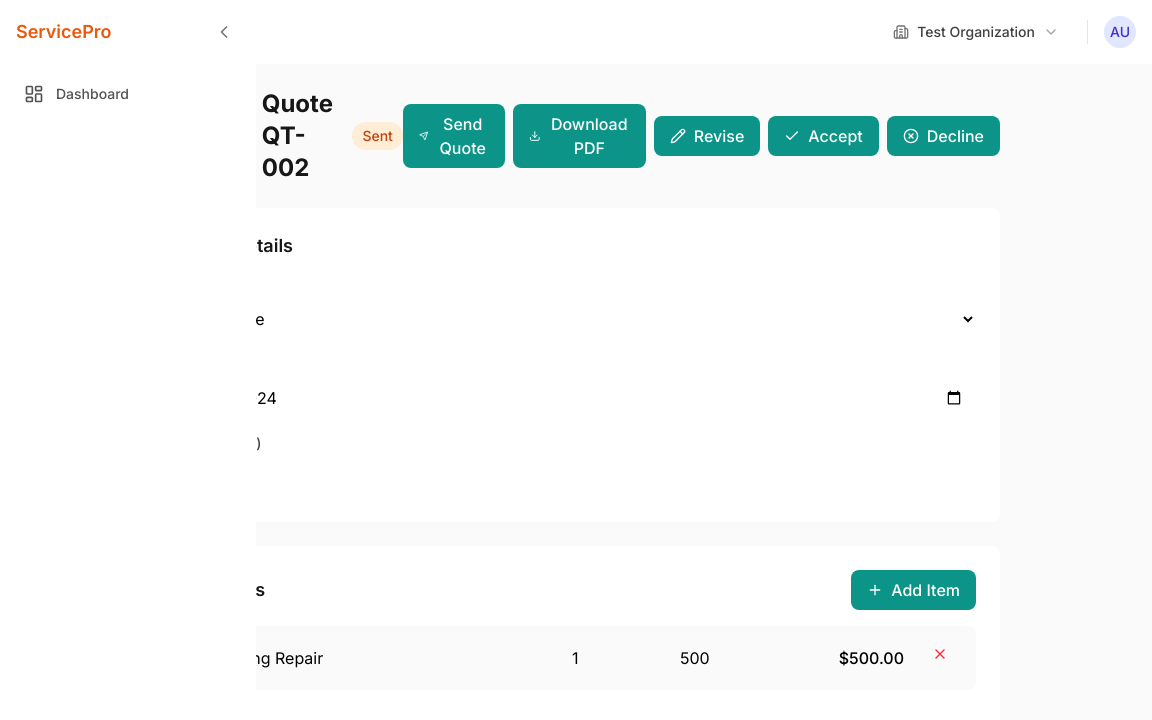
Test: Quote Workflow Integration › Quote Status Transitions › accepts a sent quote
Click the button "Accept" at (824,136), box x1=768 y1=116 x2=879 y2=156
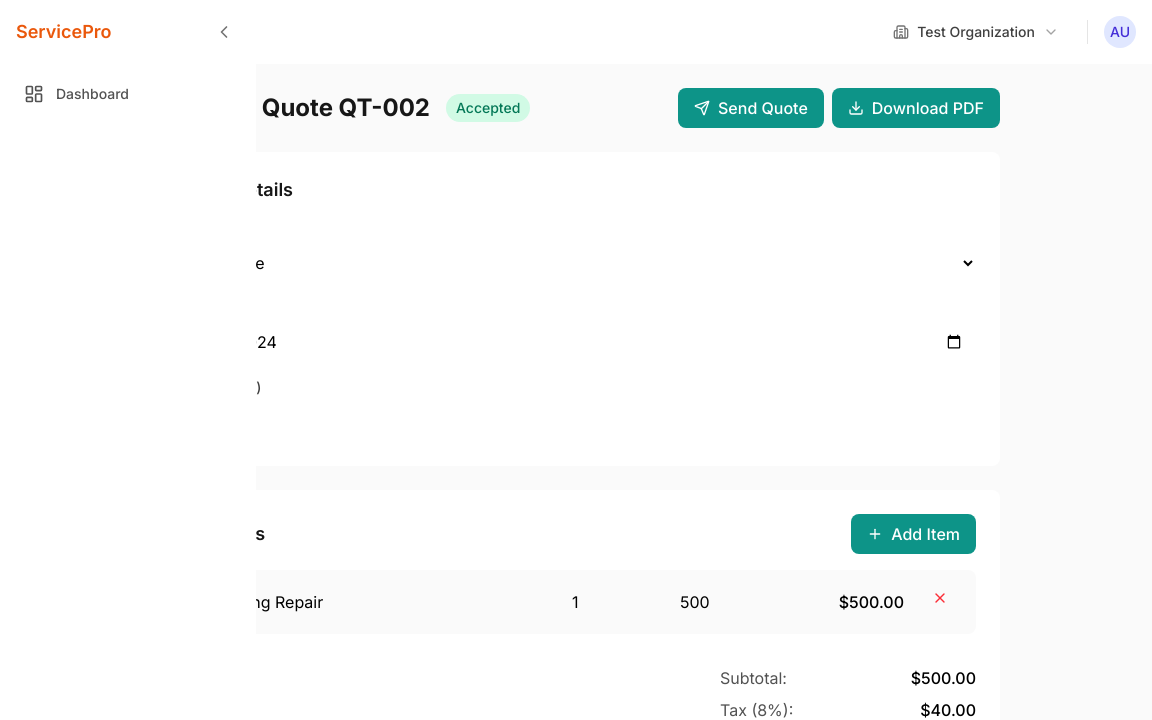
Check: the text "Accepted" is shown, box x1=446 y1=94 x2=530 y2=122
Check: the button "Decline" is gone
Check: the button "Revise" is gone
